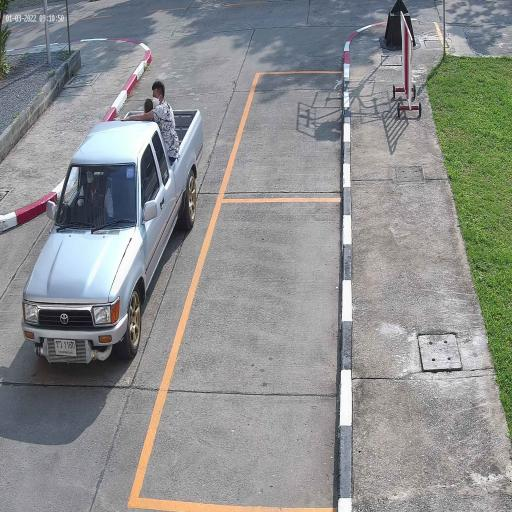car: (21, 110, 205, 366)
